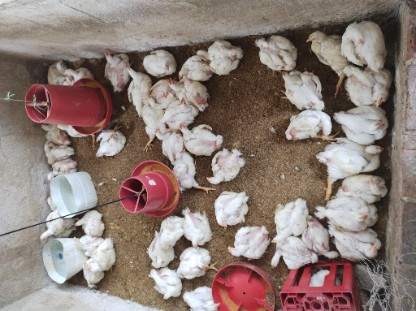Pollos: (311, 137, 386, 175), (341, 16, 389, 67), (342, 68, 397, 110), (314, 196, 380, 229), (335, 99, 388, 139), (275, 69, 329, 108), (303, 29, 349, 73), (224, 223, 273, 264), (268, 237, 323, 273), (200, 32, 238, 82), (331, 228, 384, 262), (338, 164, 391, 197), (249, 31, 297, 67), (283, 111, 335, 144), (299, 219, 337, 262), (308, 267, 350, 305), (212, 187, 249, 230), (205, 149, 246, 186), (167, 75, 209, 109), (180, 117, 217, 155), (181, 208, 214, 247), (102, 50, 130, 93), (270, 198, 309, 228), (95, 125, 129, 159), (178, 246, 211, 280), (170, 150, 198, 189), (148, 269, 182, 301), (179, 55, 216, 84), (142, 43, 175, 75), (144, 238, 177, 268), (36, 208, 65, 242), (178, 288, 221, 310), (156, 213, 184, 246), (151, 128, 183, 156), (55, 119, 93, 142), (72, 209, 104, 236), (124, 68, 151, 99), (45, 158, 78, 183), (76, 258, 100, 290), (92, 238, 114, 270), (63, 66, 97, 86), (41, 141, 75, 160), (69, 235, 94, 255), (170, 96, 188, 121), (144, 94, 158, 111), (50, 58, 68, 70), (36, 120, 52, 133), (158, 85, 171, 100), (44, 195, 57, 209), (65, 74, 75, 85)
